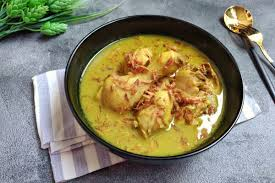Opor ayam: (86, 32, 225, 157)
